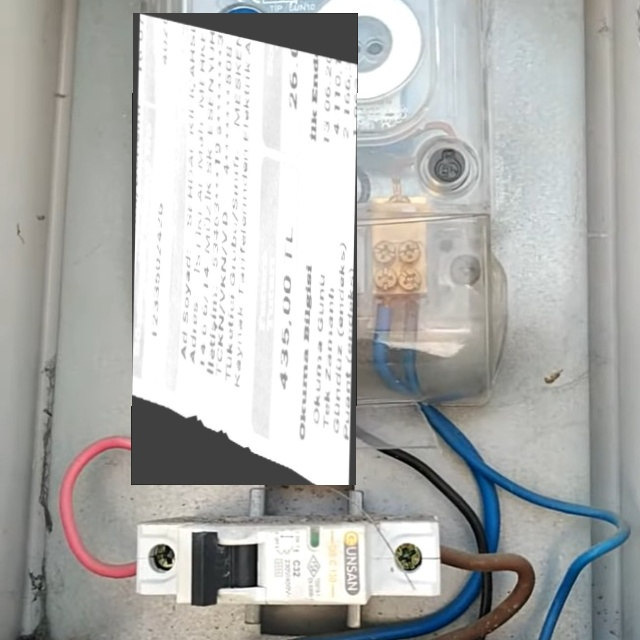electricity-bill: (131, 12, 357, 484)
